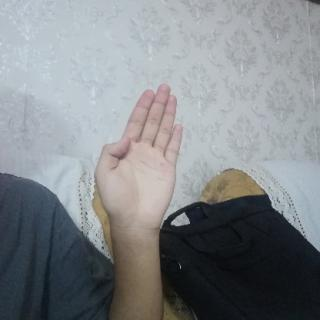SEEN: (89, 80, 190, 248)
